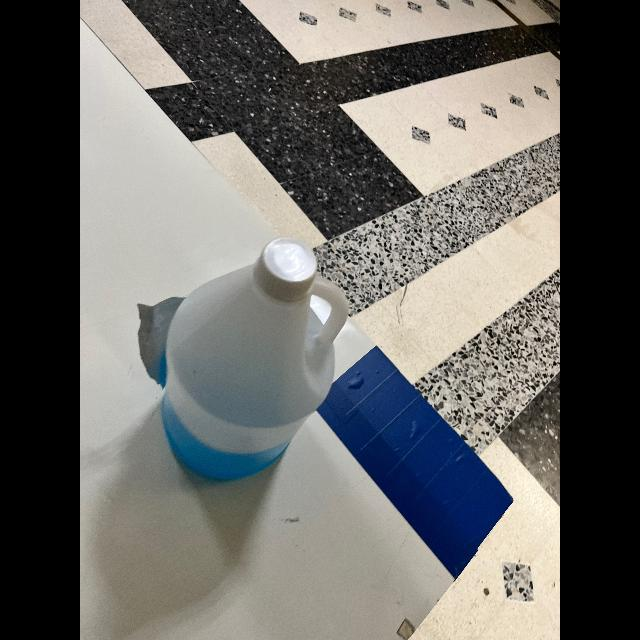chemical_plastic_gallon: (162, 236, 344, 486)
